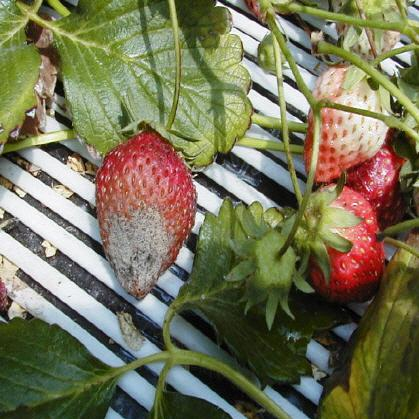Gray Mold: (96, 170, 198, 301)
